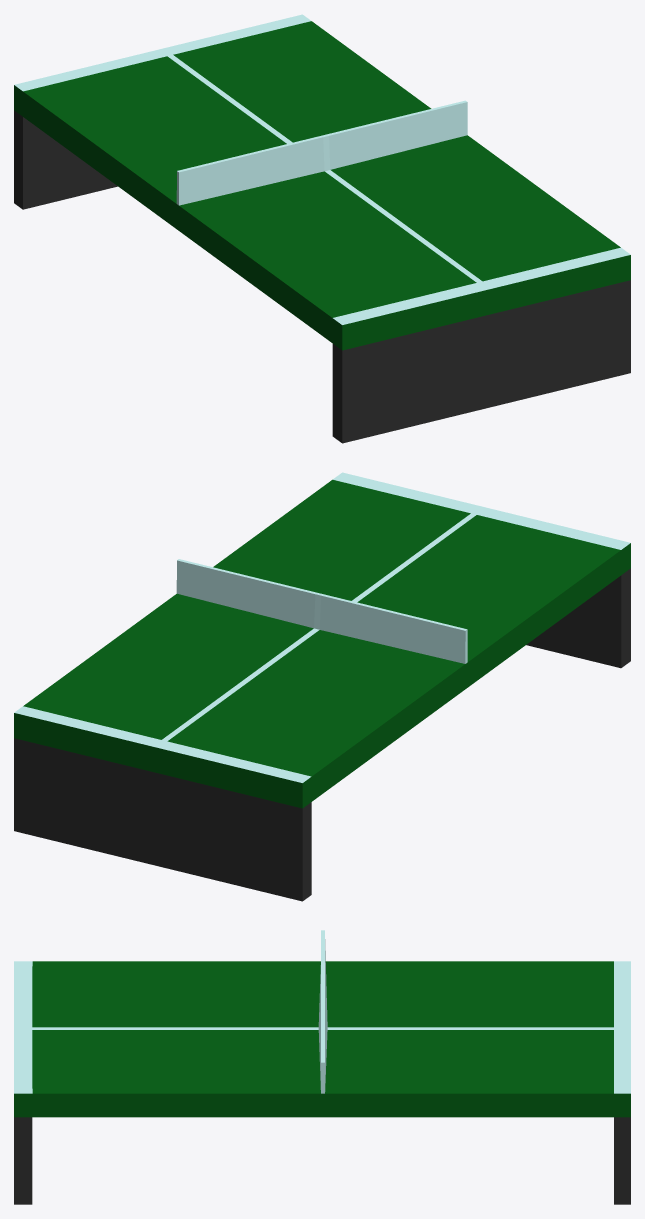
Rendered from pimpomg_stul.fbx.
The picture shows the model from 3 angles, top to bottom: view 1: azimuth 30°, elevation 25°; view 2: azimuth 150°, elevation 25°; view 3: azimuth 270°, elevation 25°; orthographic projection. The views are drawn at different scales.
Visible parts, largest first — view 1: Cube; view 2: Cube; view 3: Cube.
Boxes of the visible parts, x1=… form: Cube: x1=14, y1=14, x2=630, y2=443; Cube: x1=14, y1=472, x2=630, y2=901; Cube: x1=14, y1=930, x2=630, y2=1204.
Bounding box in the file's own units: 364 × 183 × 718.
